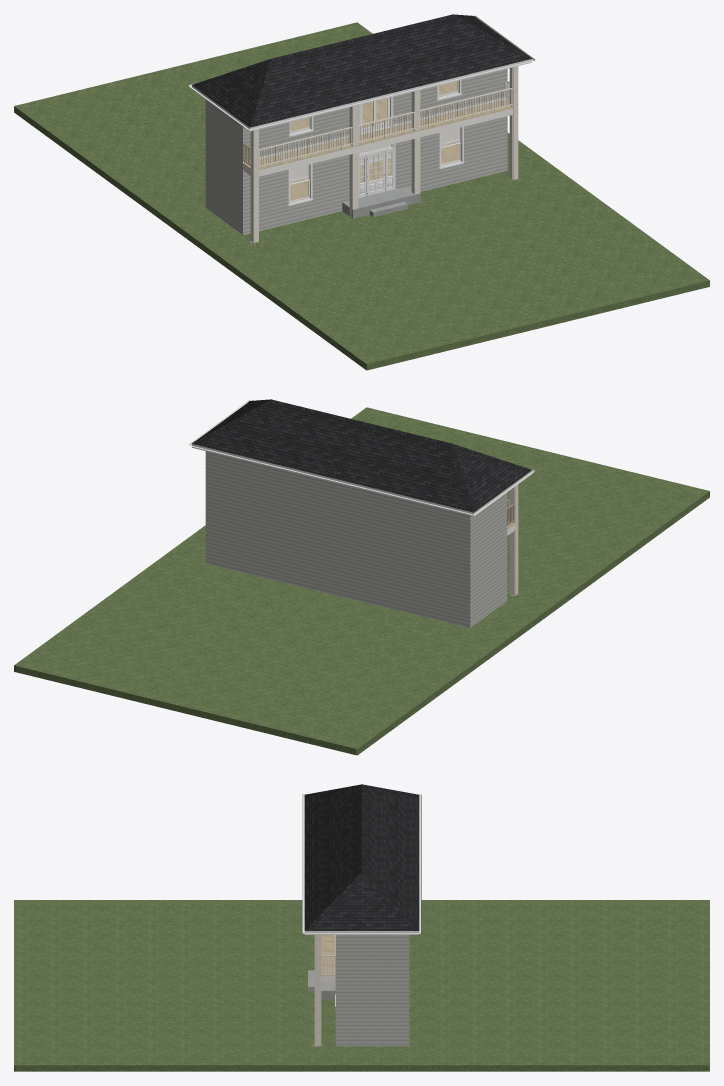
File: porche-7107.glb
3 renders of one model, top to bottom at view 1: azimuth 30°, elevation 25°; view 2: azimuth 150°, elevation 25°; view 3: azimuth 270°, elevation 25°, orthographic.
Visible parts, largest first — view 1: geo_122-node, geo_68-node, geo_69-node, geo_59-node, geo_11-node, geo_71-node, geo_108-node, geo_72-node, geo_61-node; view 2: geo_122-node, geo_68-node, geo_69-node, geo_108-node, geo_71-node; view 3: geo_122-node, geo_69-node, geo_68-node, geo_108-node, geo_71-node, geo_59-node.
Part boxes in pixels (left/top/right/bottom): geo_122-node: left=14, top=22, right=709, bottom=370; geo_68-node: left=205, top=68, right=507, bottom=234; geo_69-node: left=192, top=14, right=532, bottom=127; geo_59-node: left=243, top=81, right=512, bottom=200; geo_11-node: left=243, top=80, right=512, bottom=206; geo_71-node: left=250, top=66, right=518, bottom=242; geo_108-node: left=188, top=15, right=535, bottom=203; geo_72-node: left=259, top=88, right=512, bottom=166; geo_61-node: left=250, top=178, right=517, bottom=243; geo_122-node: left=14, top=407, right=709, bottom=755; geo_68-node: left=205, top=451, right=507, bottom=627; geo_69-node: left=191, top=399, right=531, bottom=512; geo_108-node: left=188, top=400, right=535, bottom=516; geo_71-node: left=509, top=484, right=518, bottom=595; geo_122-node: left=14, top=900, right=709, bottom=1071; geo_69-node: left=304, top=784, right=419, bottom=930; geo_68-node: left=335, top=935, right=409, bottom=1046; geo_108-node: left=302, top=794, right=421, bottom=934; geo_71-node: left=314, top=935, right=335, bottom=1046; geo_59-node: left=321, top=935, right=335, bottom=975.
Size of the model in its own units: 17.13 by 8.28 by 30.48.
17 materials, 17 textured.
